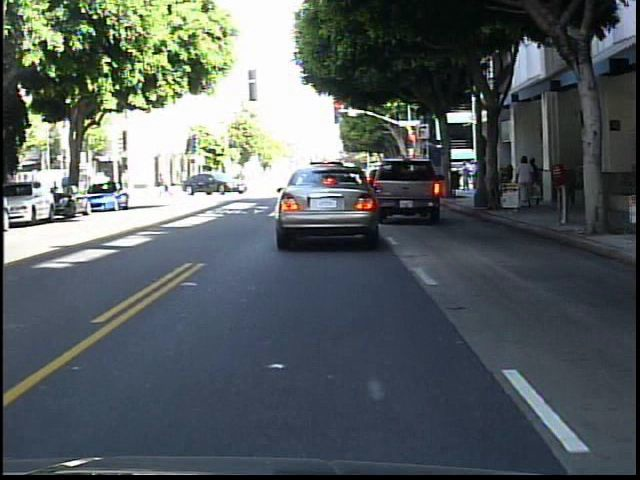person: (517, 154, 537, 209), (60, 169, 79, 206), (530, 154, 543, 208)
